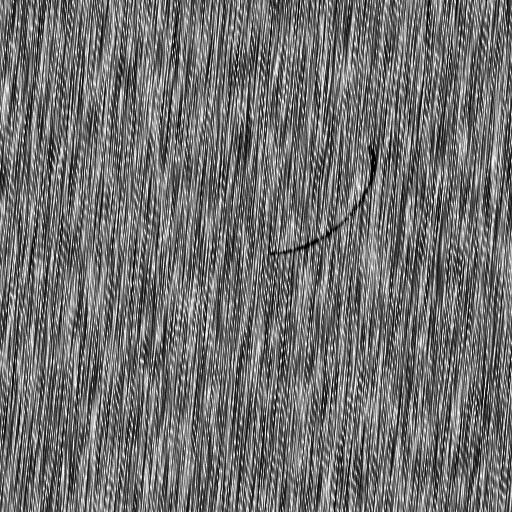DefectTypeC: (270, 147, 376, 257)
